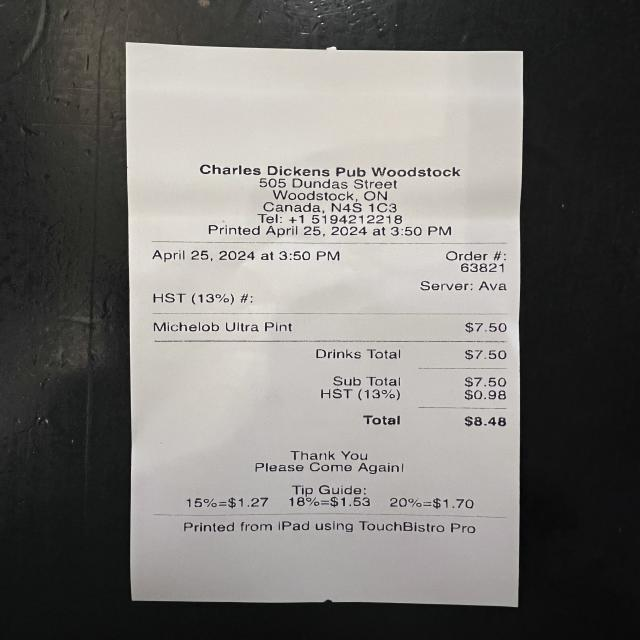item: (145, 317, 512, 342)
store_name: (192, 160, 468, 182)
total_amount: (357, 410, 513, 432)
transaction_date: (144, 245, 258, 265)
